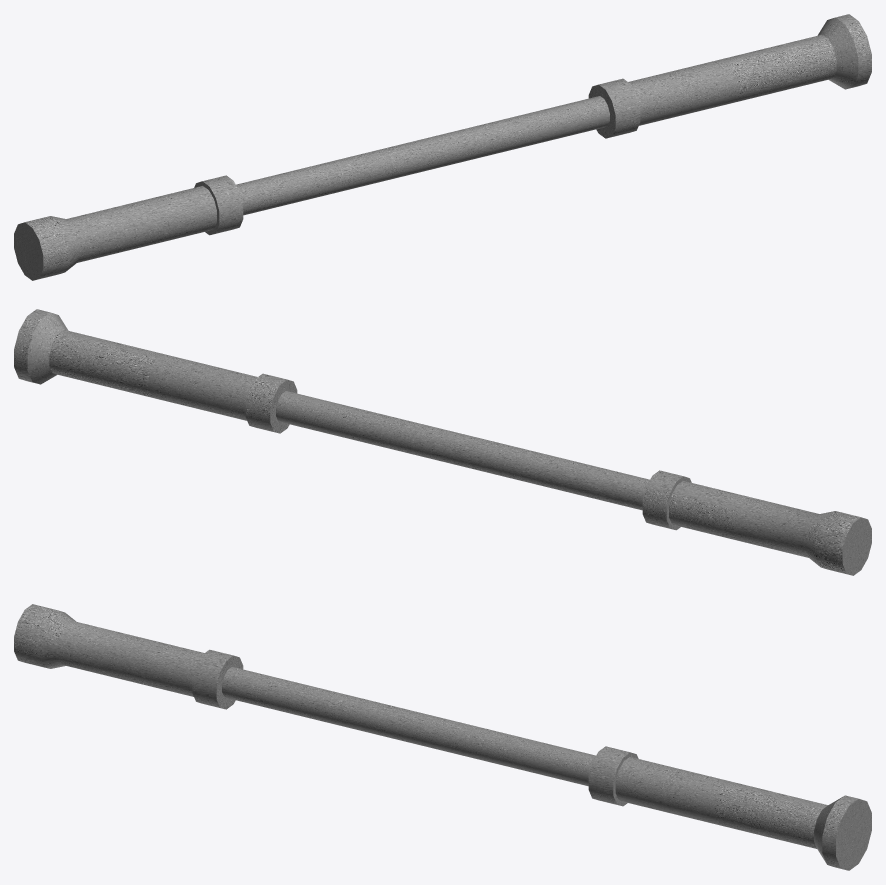
File: FBX_AxeThin.fbx
3 renders of one model, top to bottom at view 1: azimuth 30°, elevation 25°; view 2: azimuth 150°, elevation 25°; view 3: azimuth 330°, elevation 25°, orthographic.
Visible parts, largest first — view 1: Thin Axe Export; view 2: Thin Axe Export; view 3: Thin Axe Export.
Part boxes in pixels (box(x1,y1,x2,y2)): Thin Axe Export: box(14, 14, 871, 280); Thin Axe Export: box(14, 309, 871, 575); Thin Axe Export: box(14, 604, 871, 870).
Size of the model in its own units: 6.39 by 0.4822 by 0.4822.
